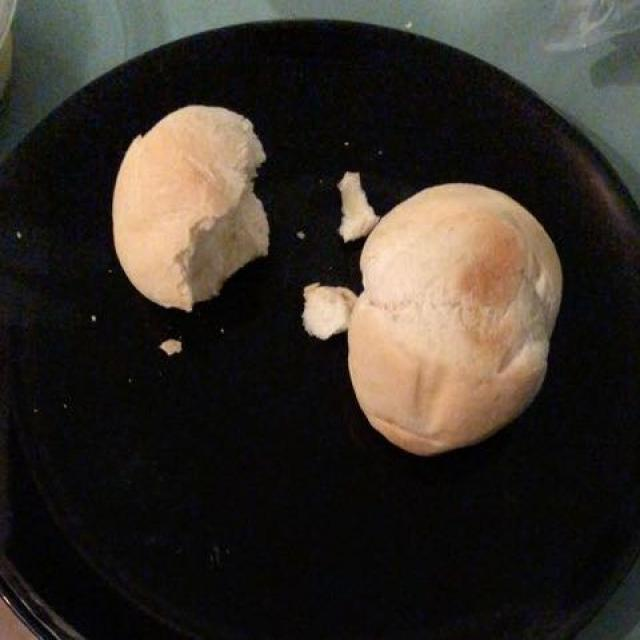bread: (113, 105, 558, 474)
